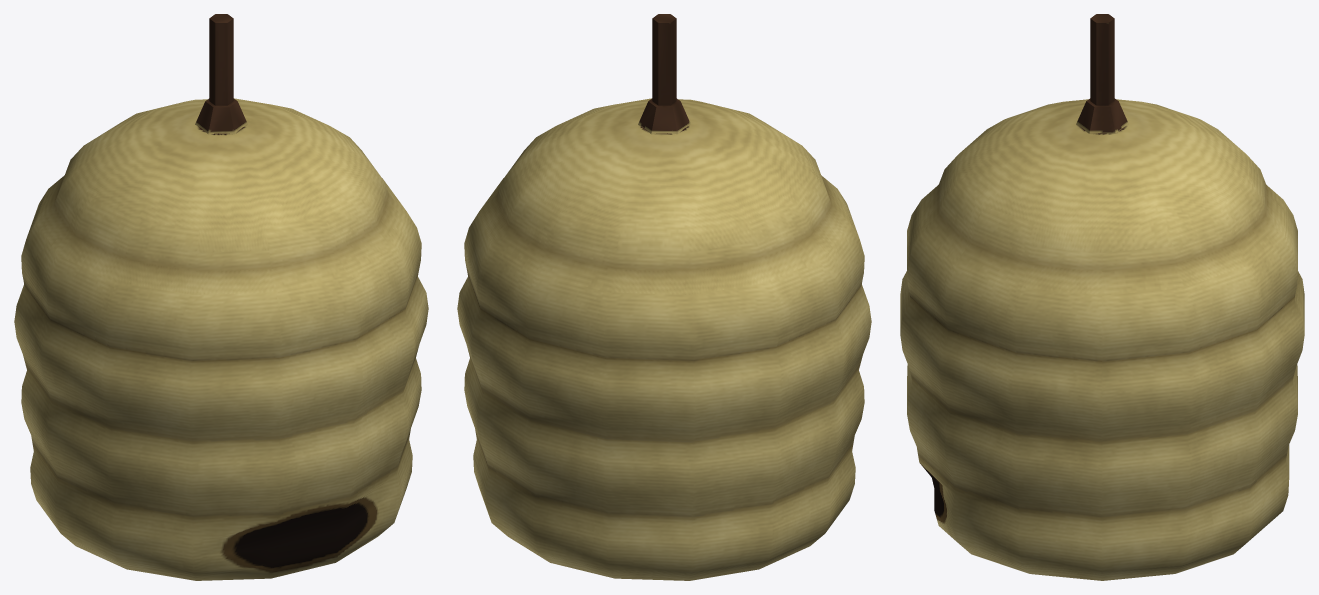
The model's file is beehive.glb.
The picture shows the model from 3 angles, left to right: view 1: azimuth 30°, elevation 25°; view 2: azimuth 150°, elevation 25°; view 3: azimuth 270°, elevation 25°; orthographic projection.
Parts seen in each view (by area): view 1: beehive; view 2: beehive; view 3: beehive.
Part boxes in pixels (bbox=[...]): beehive: bbox=[14, 14, 428, 580]; beehive: bbox=[457, 14, 871, 580]; beehive: bbox=[900, 14, 1304, 580].
Size of the model in its own units: 0.4091 by 0.57 by 0.3988.
1 material, 1 textured.
